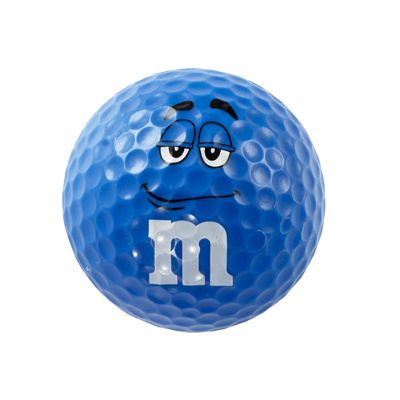blue ball: (61, 67, 328, 333)
